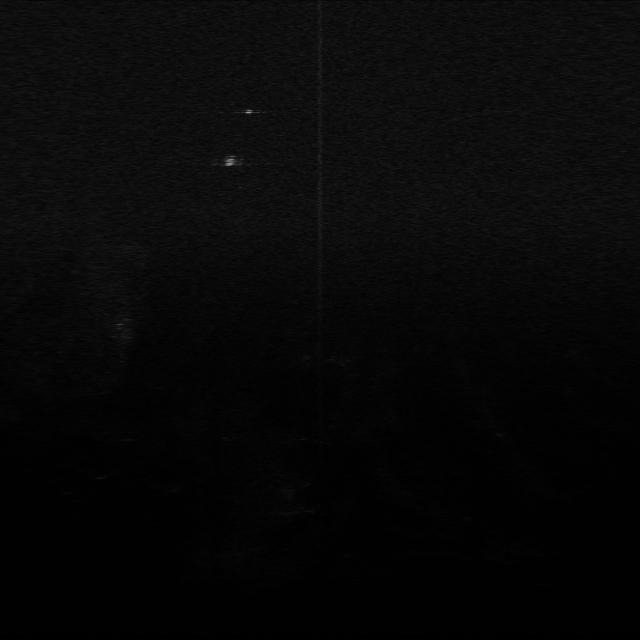rov: (221, 153, 243, 172)
